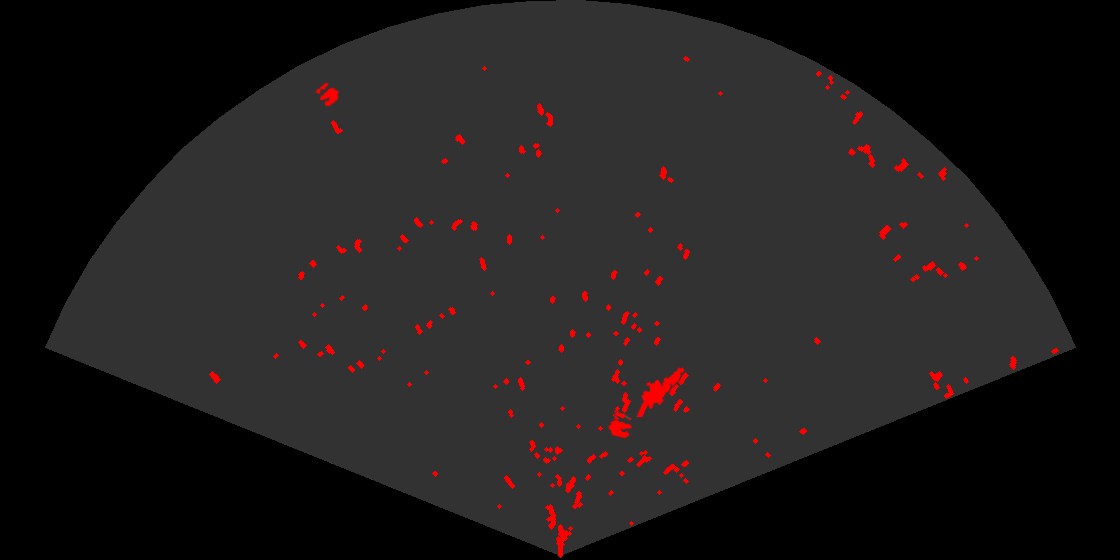ball: (607, 411, 634, 440), (314, 81, 341, 108)
frogman: (635, 365, 686, 417)
